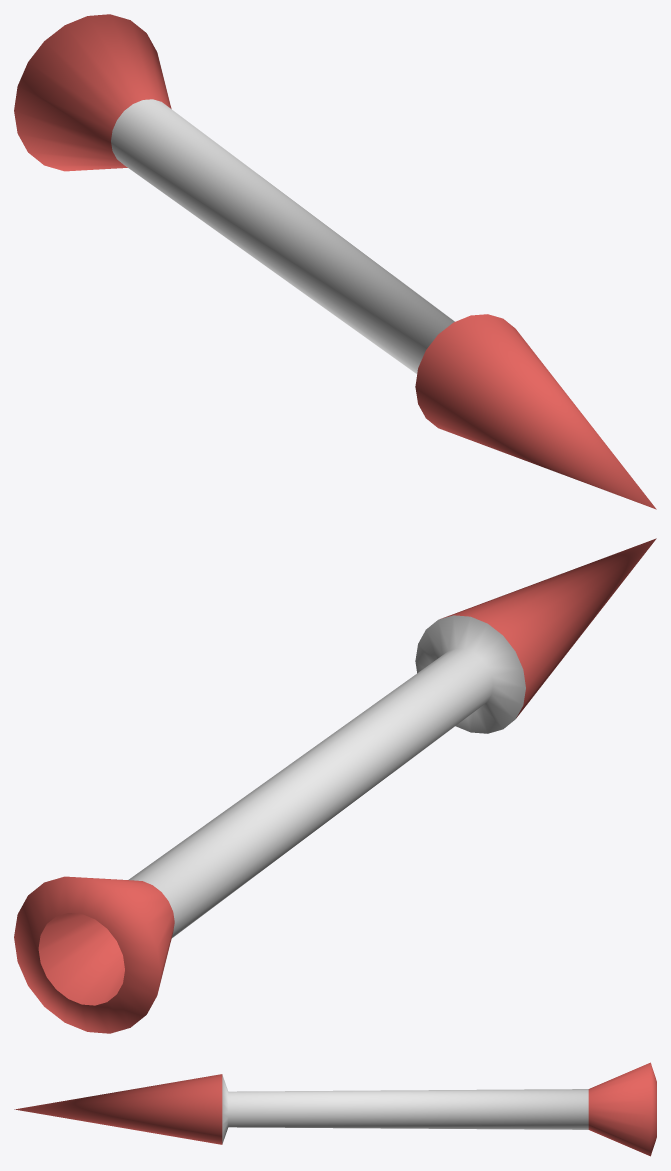
File: coheteSAM.fbx
The picture shows the model from 3 angles, top to bottom: view 1: azimuth 30°, elevation 25°; view 2: azimuth 150°, elevation 25°; view 3: azimuth 270°, elevation 25°; orthographic projection. The views are drawn at different scales.
Visible parts, largest first — view 1: coheteSAM; view 2: coheteSAM; view 3: coheteSAM.
Part boxes in pixels (x1,y1,x2,y2): coheteSAM: (14, 14, 656, 509); coheteSAM: (14, 538, 656, 1033); coheteSAM: (14, 1062, 656, 1156).
Size of the model in its own units: 0.3218 by 0.3218 by 2.18.
